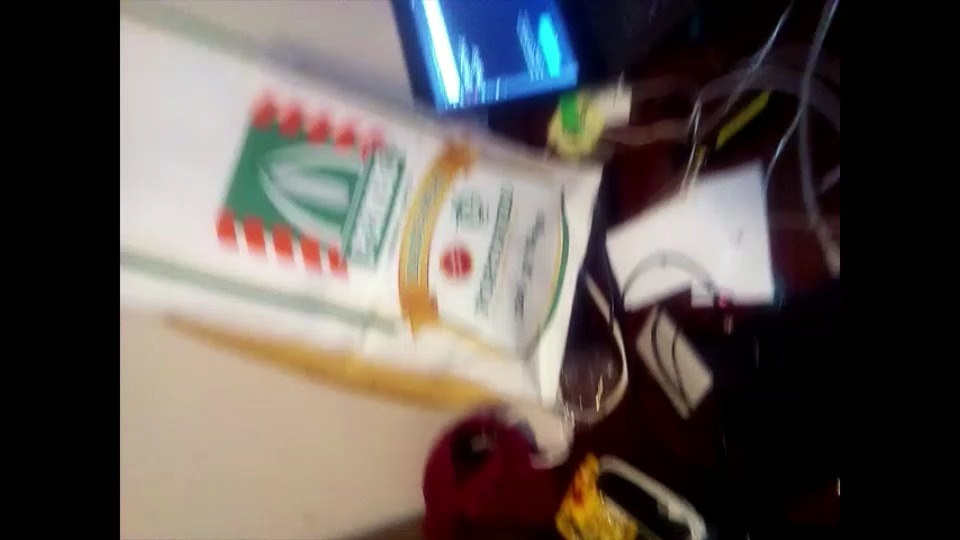maize_flour_green_label: (119, 9, 604, 412)
